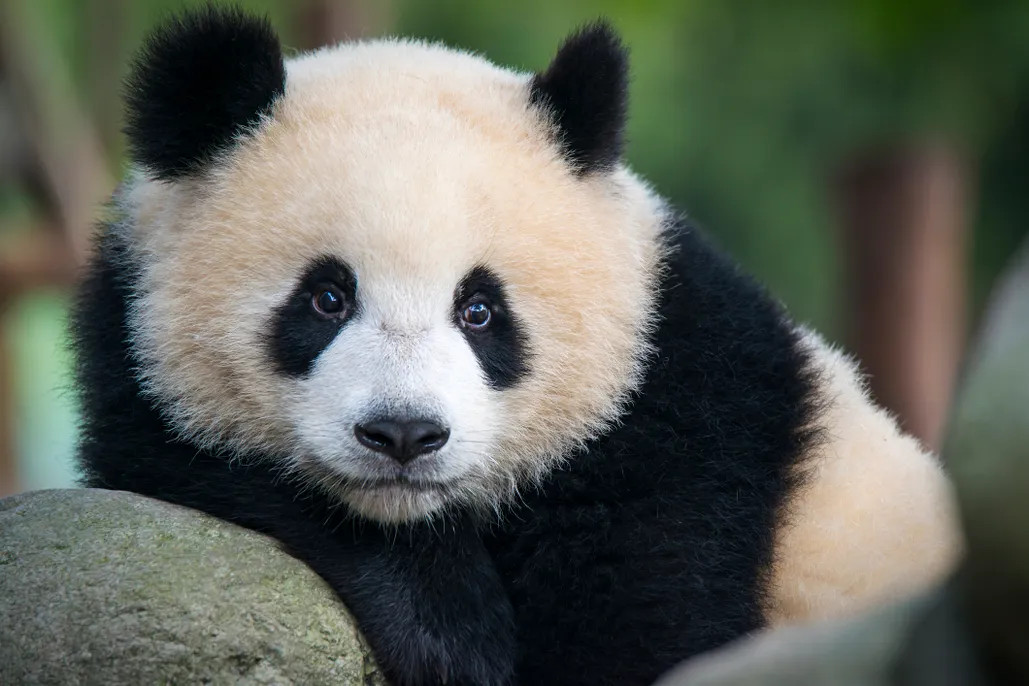Giant panda: (111, 9, 661, 524)
